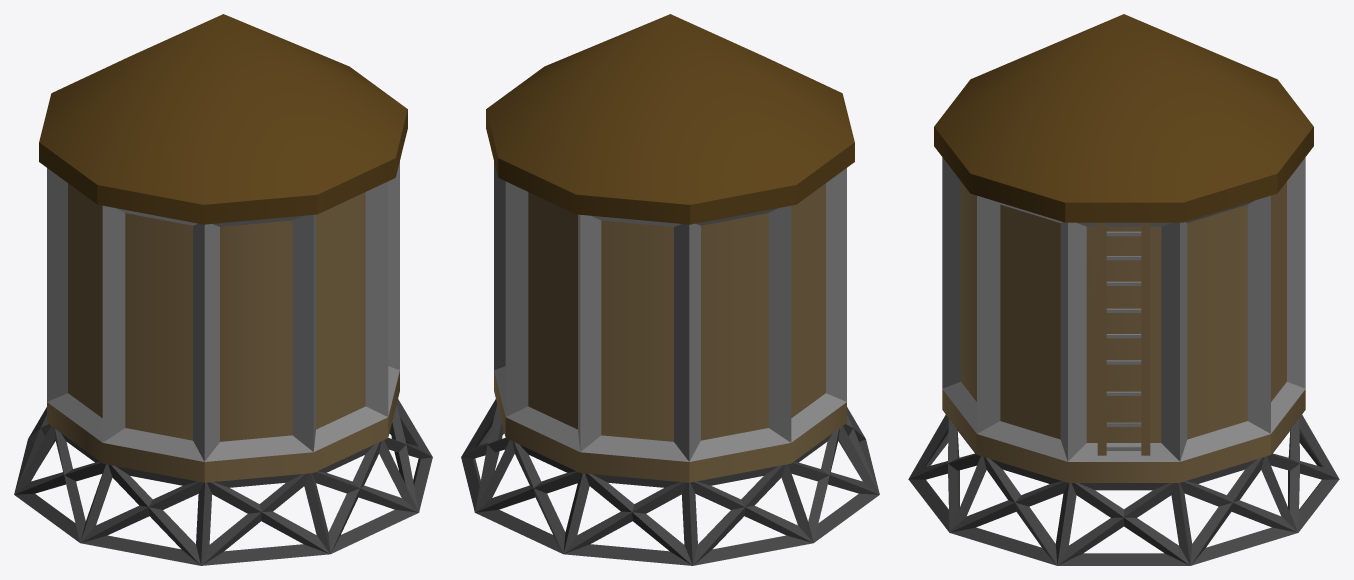
The model's file is Silo-1.fbx.
The picture shows the model from 3 angles, left to right: view 1: azimuth 30°, elevation 25°; view 2: azimuth 150°, elevation 25°; view 3: azimuth 270°, elevation 25°; orthographic projection.
Visible parts, largest first — view 1: Silo-1; view 2: Silo-1; view 3: Silo-1.
Part boxes in pixels (box(x1,y1,x2,y2)): Silo-1: box(14, 14, 432, 565); Silo-1: box(461, 14, 879, 565); Silo-1: box(908, 14, 1339, 565).
Size of the model in its own units: 15.54 by 19.45 by 16.34.
